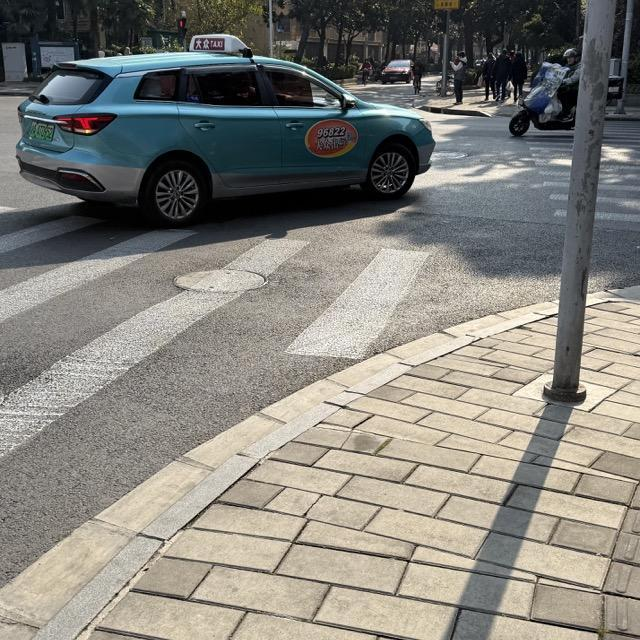curb: (33, 311, 547, 639), (420, 106, 490, 116), (606, 115, 639, 121)
